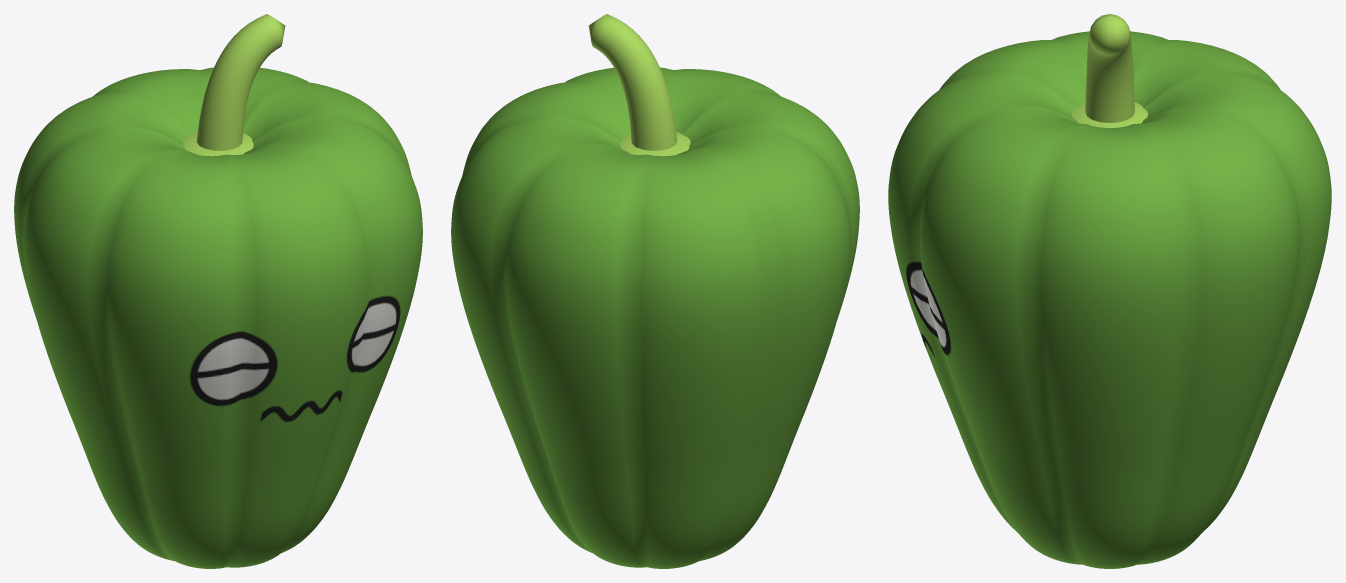
File: greenpepper.glb
The picture shows the model from 3 angles, left to right: view 1: azimuth 30°, elevation 25°; view 2: azimuth 150°, elevation 25°; view 3: azimuth 270°, elevation 25°; orthographic projection. The views are drawn at different scales.
Visible parts, largest first — view 1: GreenPepper; view 2: GreenPepper; view 3: GreenPepper.
Part boxes in pixels (x1,y1,x2,y2): GreenPepper: (14,14,422,568); GreenPepper: (451,14,859,568); GreenPepper: (888,14,1331,568).
Size of the model in its own units: 0.7265 by 1.01 by 0.7265.
2 materials, 1 textured.
